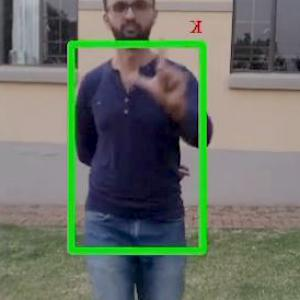land_hand: (131, 28, 194, 114)
